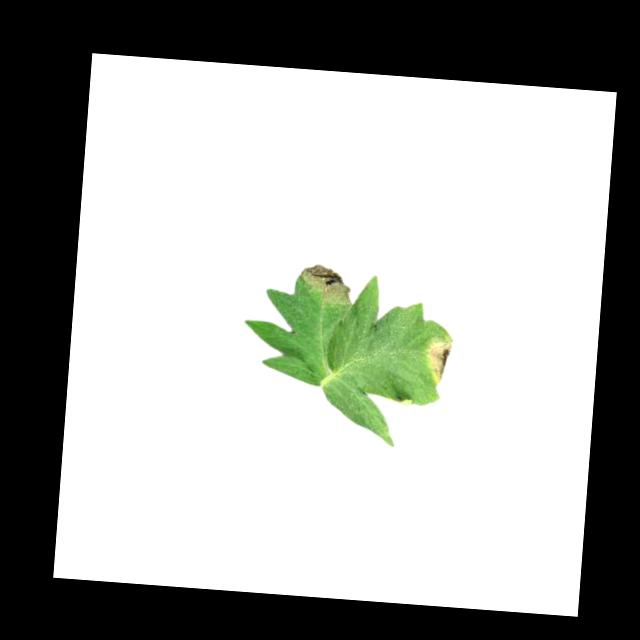Late_blight: (295, 262, 354, 308), (422, 337, 454, 388)
